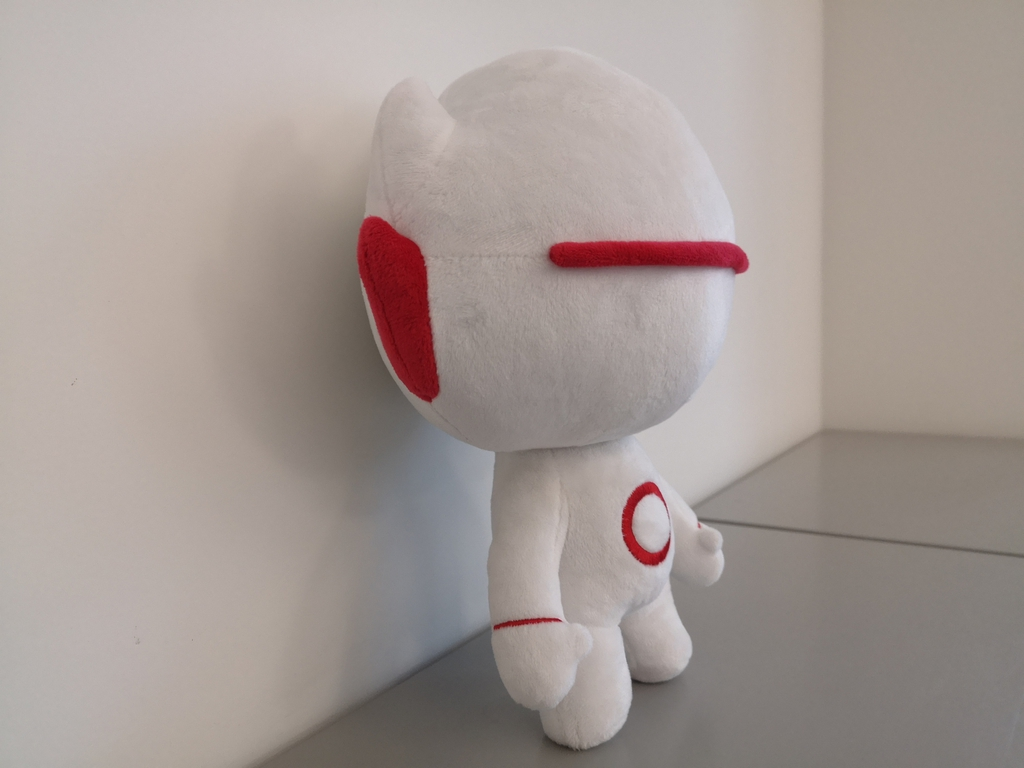yunbao: (332, 26, 799, 761)
